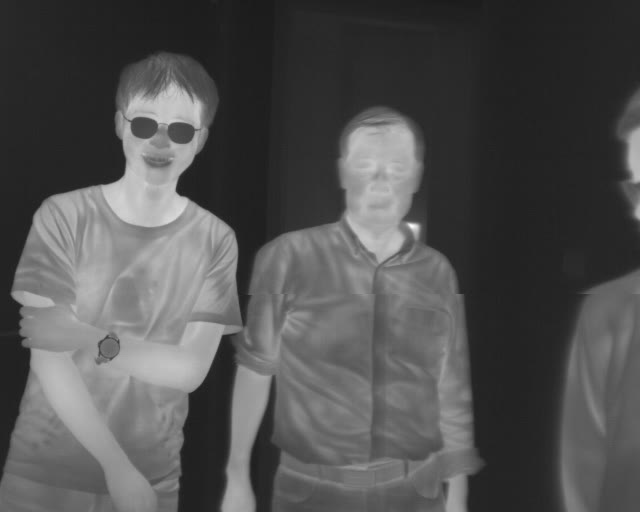face: (114, 50, 217, 188), (337, 104, 425, 232)
